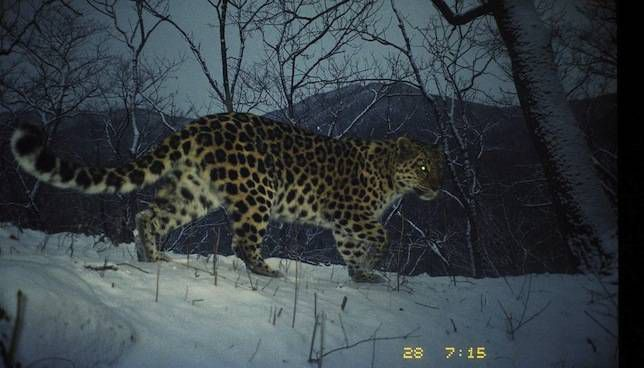amur_leopard: (12, 56, 478, 285)
